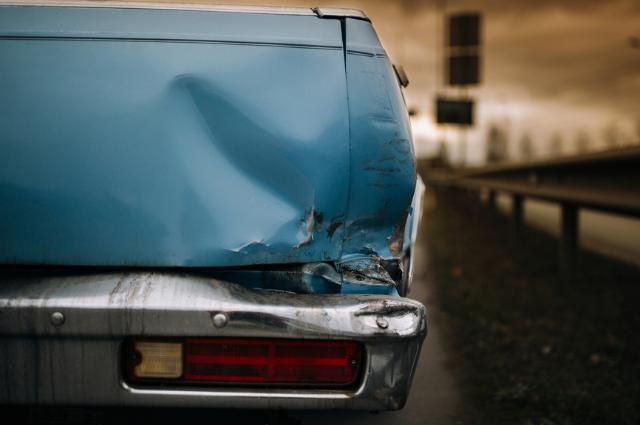Bumper: (90, 279, 425, 420)
Dickey: (145, 38, 398, 285)
